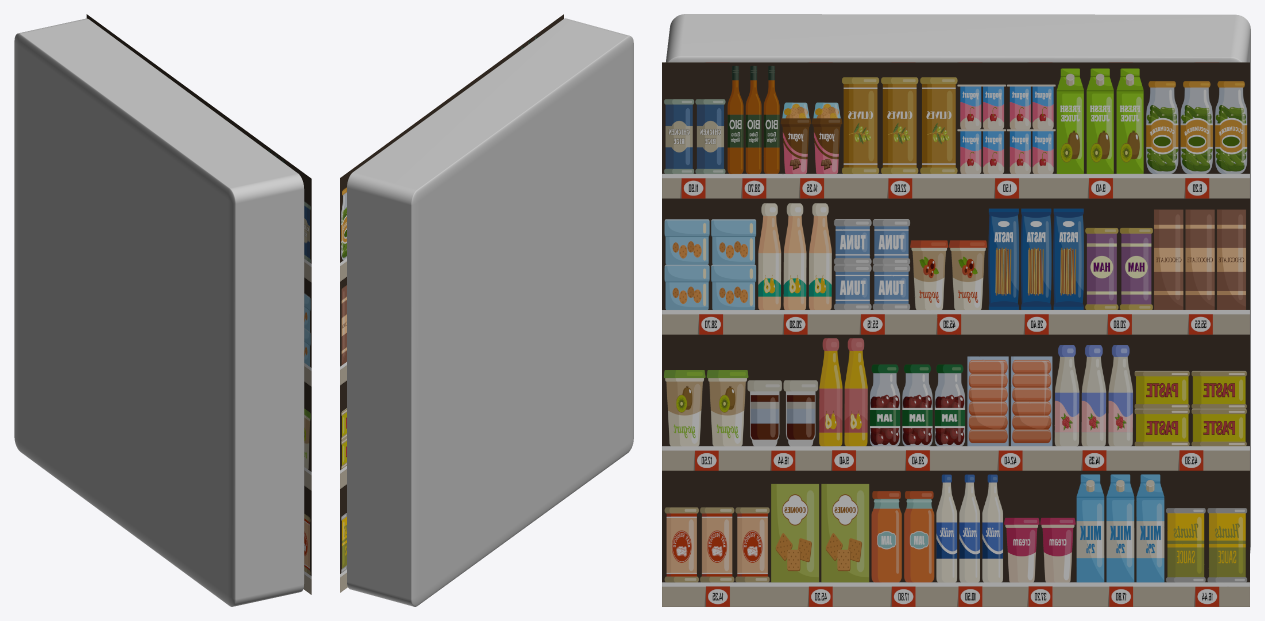
Rendered from uploads_files_3751127_olive+shelf.fbx.
3 views of the same model, side by side, from view 1: azimuth 30°, elevation 25°; view 2: azimuth 150°, elevation 25°; view 3: azimuth 270°, elevation 25° (orthographic). The views are drawn at different scales.
Visible parts, largest first — view 1: ChamferBox001, Plane00; view 2: ChamferBox001, Plane00; view 3: Plane00, ChamferBox001.
Part boxes in pixels (x1,y1,x2,y2): ChamferBox001: [14, 18, 304, 606]; Plane00: [86, 14, 311, 594]; ChamferBox001: [347, 18, 633, 606]; Plane00: [340, 14, 563, 592]; Plane00: [662, 62, 1249, 606]; ChamferBox001: [666, 14, 1250, 552].
Size of the model in its own units: 47.56 by 249 by 255.
Materials: 2 (2 with a texture image).
